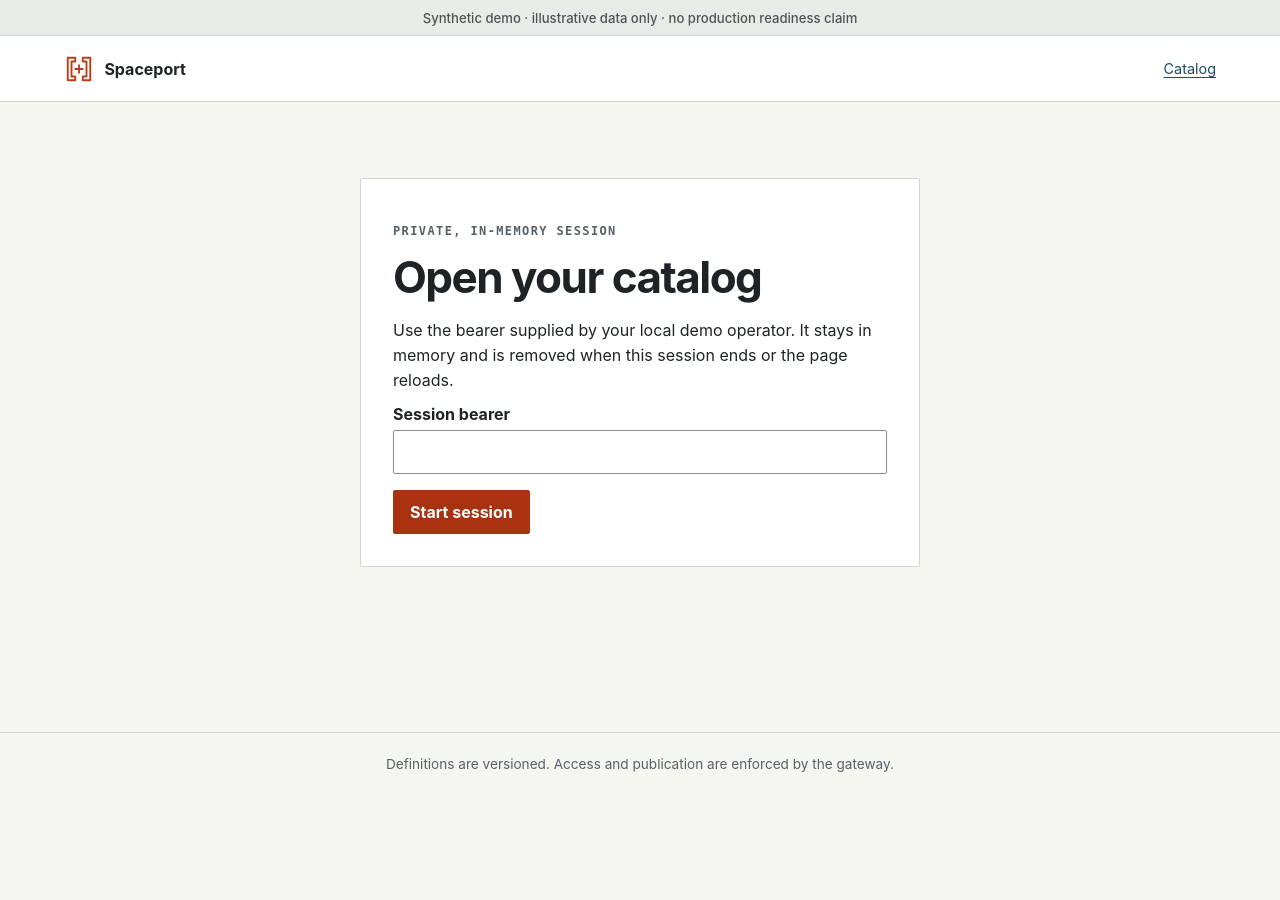
Scenario: clears private data on logout without persisting the bearer
The width and height of the screenshot is (1280, 900).
In the password field labelled "Session bearer": (640, 452) [393, 430, 887, 474], type "synthetic-test"
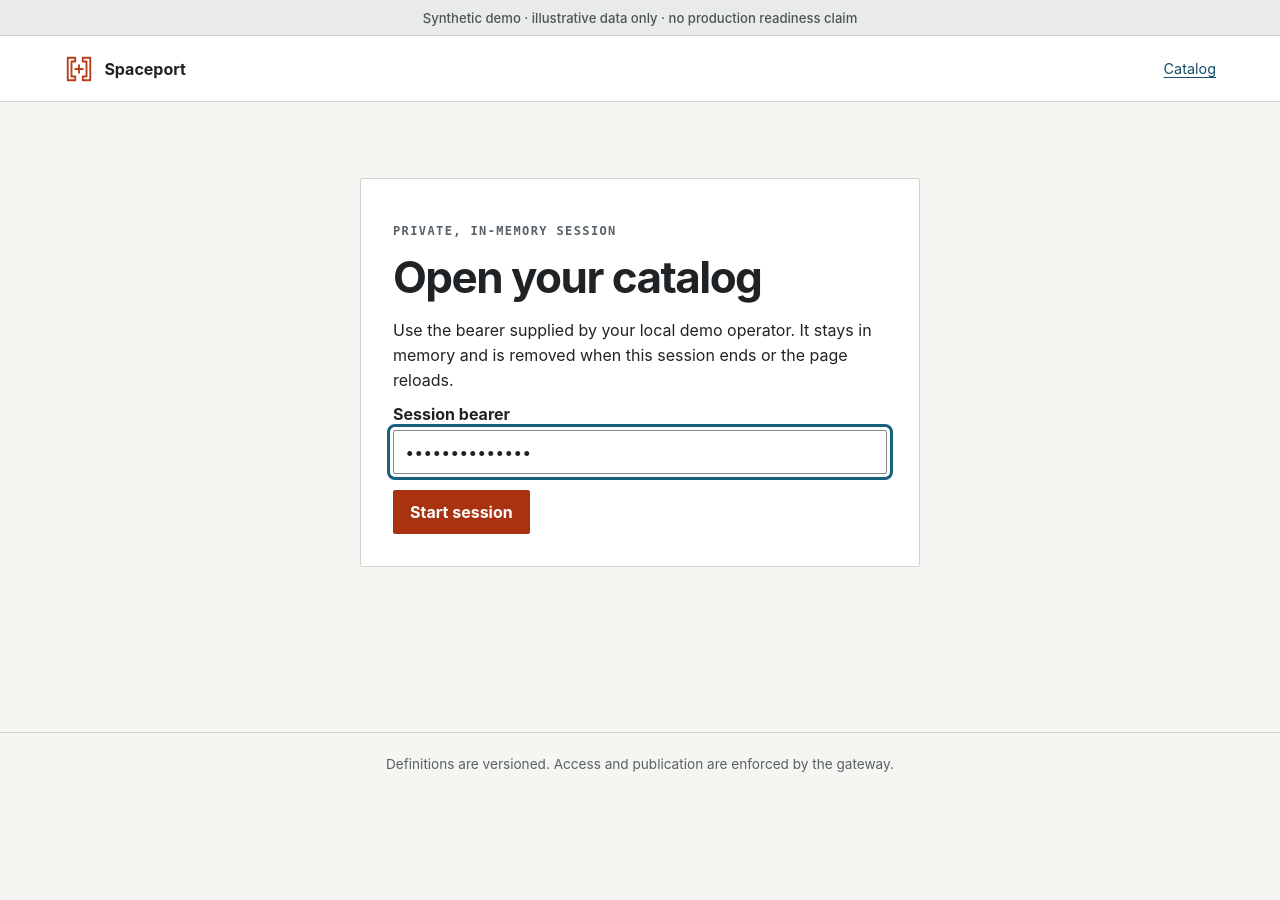
Click the button "Start session": click(461, 512) [393, 490, 530, 534]
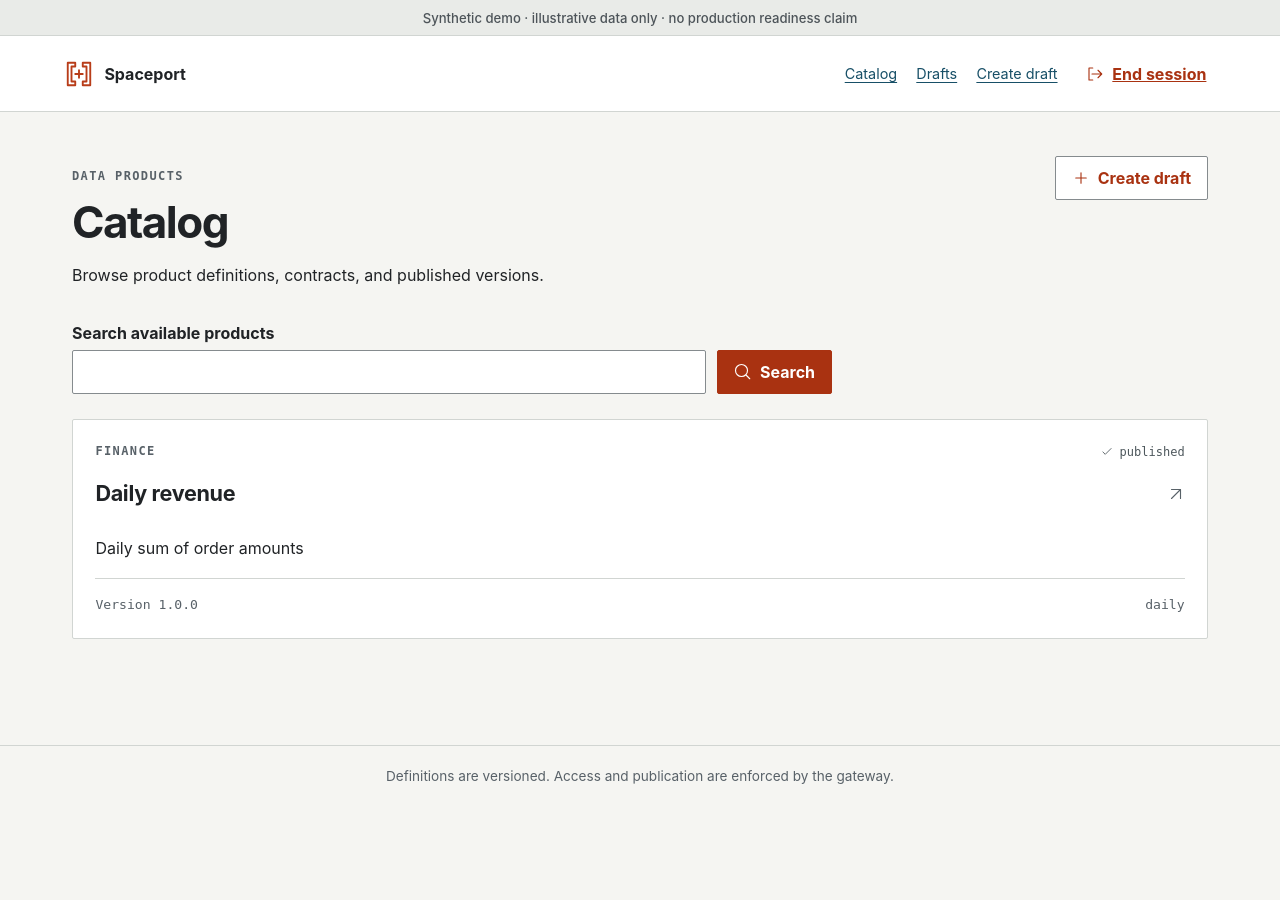
Expected: the link "Daily revenue" is shown, [95, 477, 1185, 511]
Click the button "End session": click(1146, 74) [1077, 54, 1216, 94]
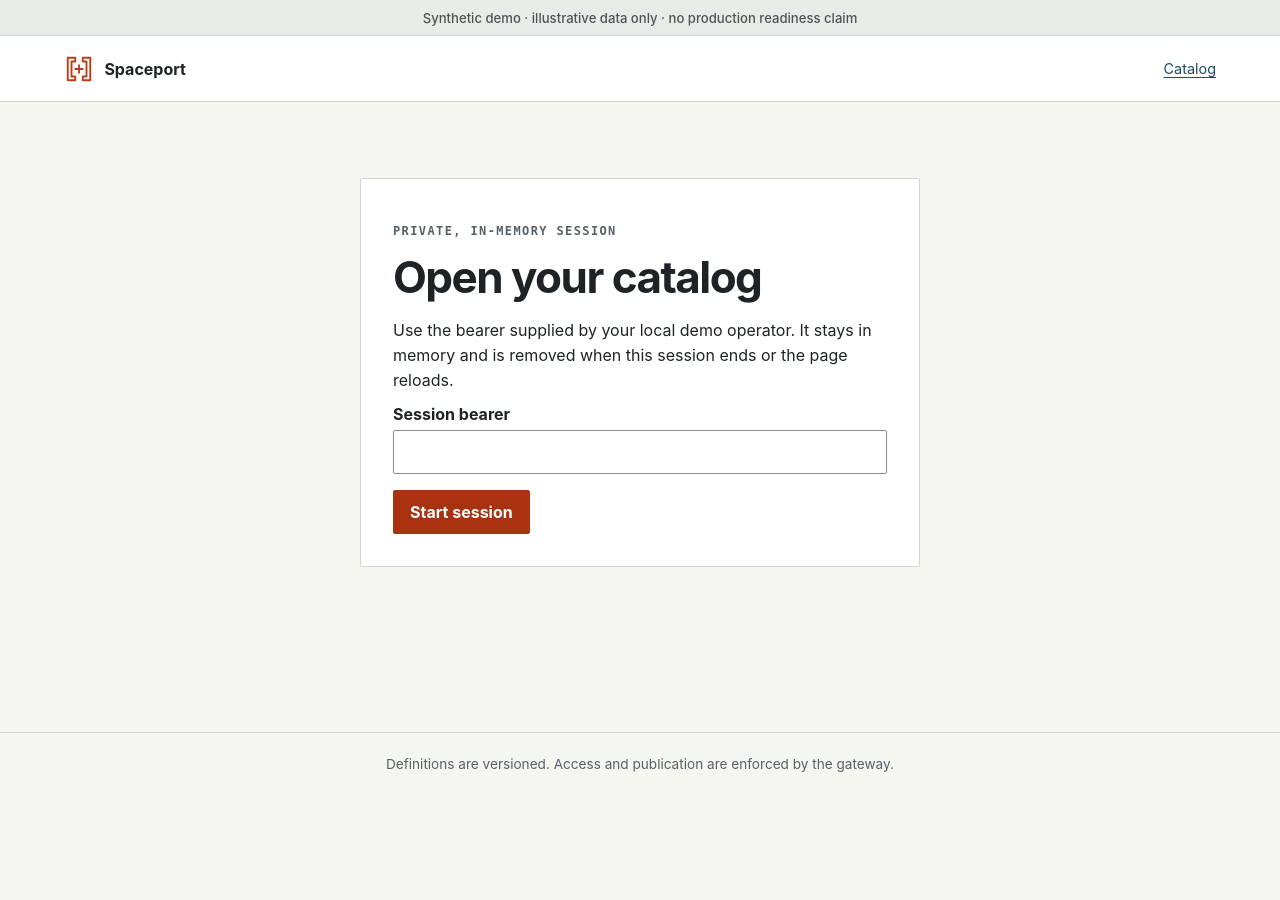
Expected: the password field labelled "Session bearer" is empty, [393, 430, 887, 474]
Expected: the link "Daily revenue" is gone
